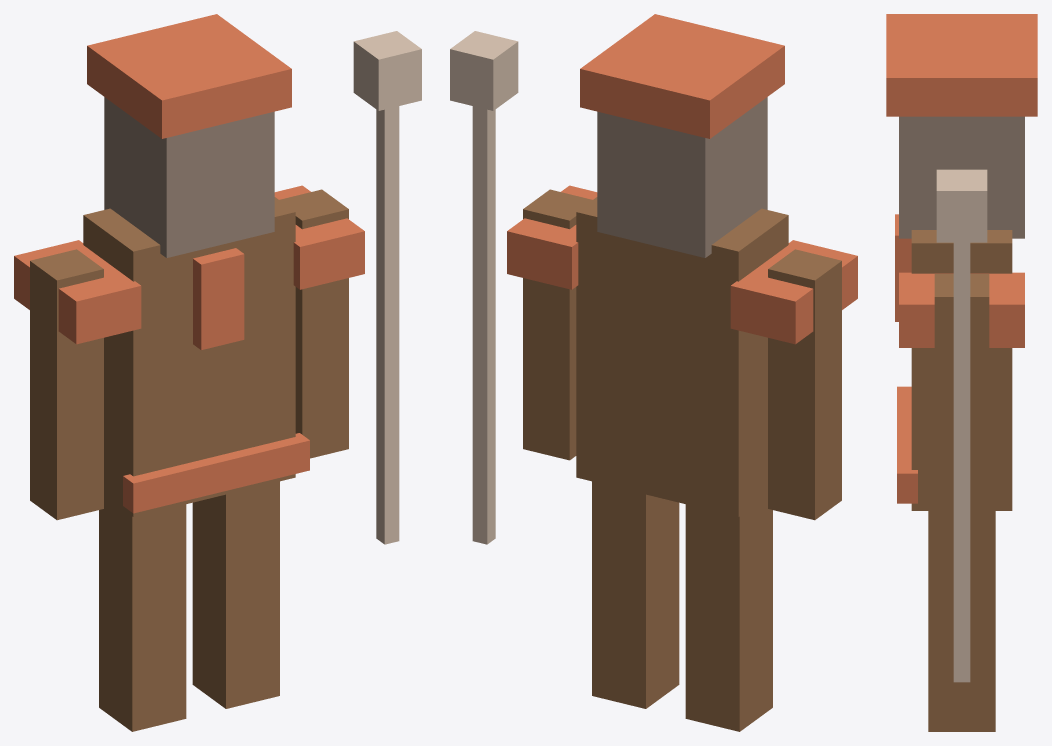
File: 04_elo_voxmere_specialist_from_verse.glb
The picture shows the model from 3 angles, left to right: view 1: azimuth 30°, elevation 25°; view 2: azimuth 150°, elevation 25°; view 3: azimuth 270°, elevation 25°; orthographic projection.
Visible parts, largest first — view 1: Elo Voxmere, Specialist from Verse; view 2: Elo Voxmere, Specialist from Verse; view 3: Elo Voxmere, Specialist from Verse.
Boxes of the visible parts, x1,y1,x2,y2 form: Elo Voxmere, Specialist from Verse: [14, 14, 421, 731]; Elo Voxmere, Specialist from Verse: [450, 14, 857, 731]; Elo Voxmere, Specialist from Verse: [886, 14, 1037, 731].
Bounding box in the file's own units: 1 × 1.68 × 0.3551.
